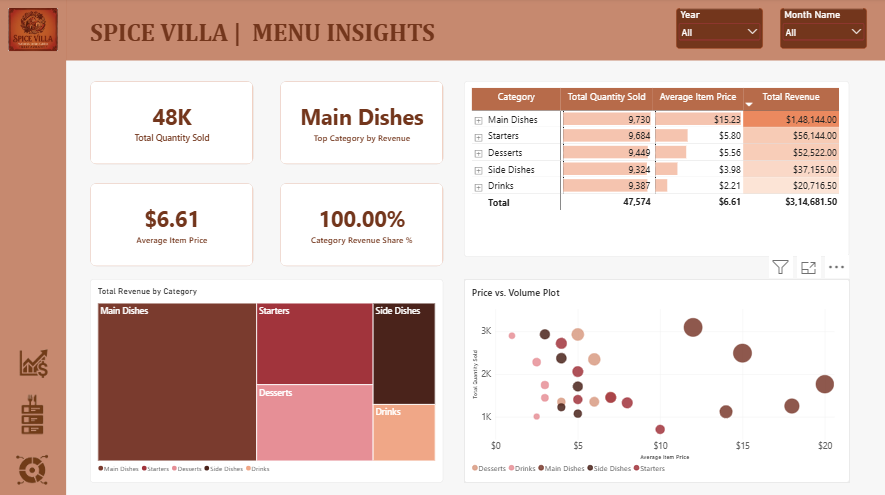

This screenshot's page, from the dashboard's own definition file:
{"tool":"powerbi","page":{"name":"Menu Insights","canvas":[1920,1080],"ordinal":1},"visuals":[{"type":"shape","box":[0,0,145,1080],"z":0},{"type":"image","box":[30,727.5,85,120],"z":0,"group":"g1"},{"type":"shape","box":[145,0,1775,135],"z":1000},{"type":"image","box":[25,847.5,92.5,105],"z":1000,"group":"g1"},{"type":"pivotTable","fields":{"Rows":["spice_villa_data.Category","spice_villa_data.Item"],"Values":["spice_villa_data.Total Quantity Sold","spice_villa_data.Average Item Price","spice_villa_data.Total Revenue"]},"box":[1004.4,179.3,831.6,380.2],"z":2000},{"type":"image","box":[22.5,975,100,80],"z":2000,"group":"g1"},{"type":"scatterChart","title":"Price vs. Volume Plot","fields":{"Category":["spice_villa_data.Item"],"Series":["spice_villa_data.Category"],"Size":["spice_villa_data.Total Revenue"],"X":["spice_villa_data.Average Item Price"],"Y":["spice_villa_data.Total Quantity Sold"]},"box":[1005,607.5,832.5,440],"z":3000},{"type":"treemap","fields":{"Group":["spice_villa_data.Category"],"Values":["spice_villa_data.Total Revenue"]},"box":[197.5,607.5,762.5,440],"z":4000},{"type":"textbox","box":[197.5,40,867.5,75],"z":5000},{"type":"cardVisual","fields":{"Data":["spice_villa_data.Total Quantity Sold"]},"box":[197.5,180,352.5,180],"z":6000},{"type":"cardVisual","fields":{"Data":["spice_villa_data.Average Item Price"]},"box":[197.5,400,352.5,180],"z":7000},{"type":"cardVisual","title":"Top Category by Revenue","fields":{"Data":["Min(spice_villa_data.Category)"]},"box":[607.5,180,352.5,180],"z":8000},{"type":"cardVisual","fields":{"Data":["spice_villa_data.Category Revenue Share %"]},"box":[607.5,400,352.5,180],"z":9000},{"type":"slicer","fields":{"Values":["spice_villa_data.Year"]},"box":[1462.5,22.5,187.5,87.5],"z":10000},{"type":"slicer","fields":{"Values":["Date.Month Name"]},"box":[1687.5,22.5,187.5,87.5],"z":11000},{"type":"image","box":[10,22.5,125,92.5],"z":12000},{"type":"group","id":"g1","title":"Group 2","box":[22.5,727.5,100,327.5],"z":12001}]}

Visuals, with their boxes in screenshot pixels (x1, y1, x2, y2), scaled from the page's 1920x1080 canvas onto the 885x495 screenshot:
shape: x1=0, y1=0, x2=67, y2=494
image: x1=14, y1=333, x2=53, y2=388
shape: x1=67, y1=0, x2=884, y2=62
image: x1=12, y1=388, x2=54, y2=437
pivotTable - spice_villa_data.Category x spice_villa_data.Item: x1=463, y1=82, x2=846, y2=256
image: x1=10, y1=447, x2=56, y2=484
"Price vs. Volume Plot" scatterChart: x1=463, y1=278, x2=847, y2=480
treemap - spice_villa_data.Category x spice_villa_data.Total Revenue: x1=91, y1=278, x2=442, y2=480
textbox: x1=91, y1=18, x2=491, y2=53
cardVisual - spice_villa_data.Total Quantity Sold: x1=91, y1=82, x2=254, y2=165
cardVisual - spice_villa_data.Average Item Price: x1=91, y1=183, x2=254, y2=266
"Top Category by Revenue" cardVisual: x1=280, y1=82, x2=442, y2=165
cardVisual - spice_villa_data.Category Revenue Share %: x1=280, y1=183, x2=442, y2=266
slicer - spice_villa_data.Year: x1=674, y1=10, x2=761, y2=50
slicer - Date.Month Name: x1=778, y1=10, x2=864, y2=50
image: x1=5, y1=10, x2=62, y2=53
"Group 2" group: x1=10, y1=333, x2=56, y2=484
